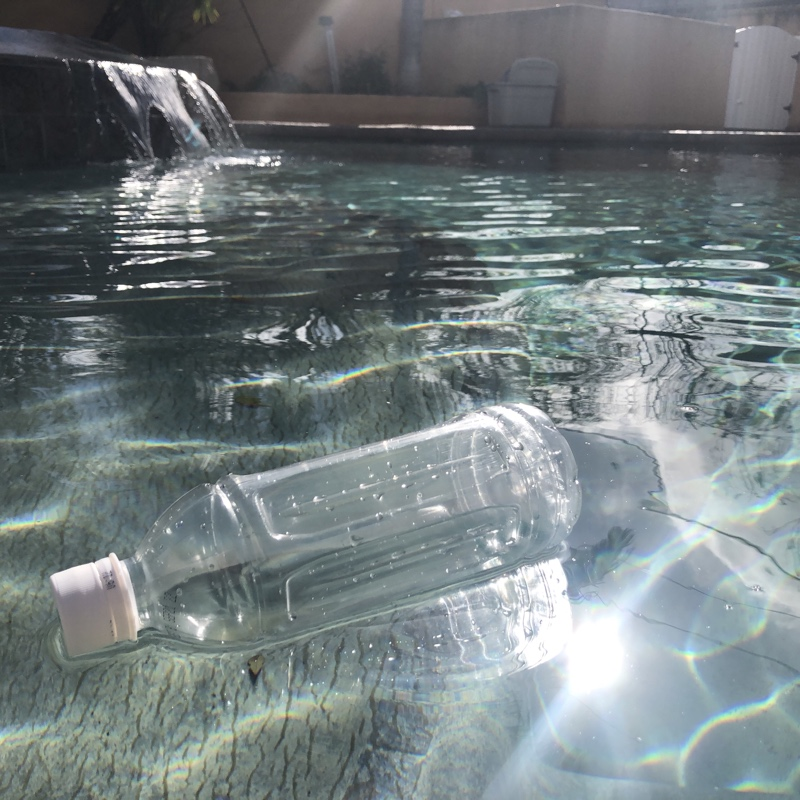Plastic Bottle: (46, 400, 587, 669)
